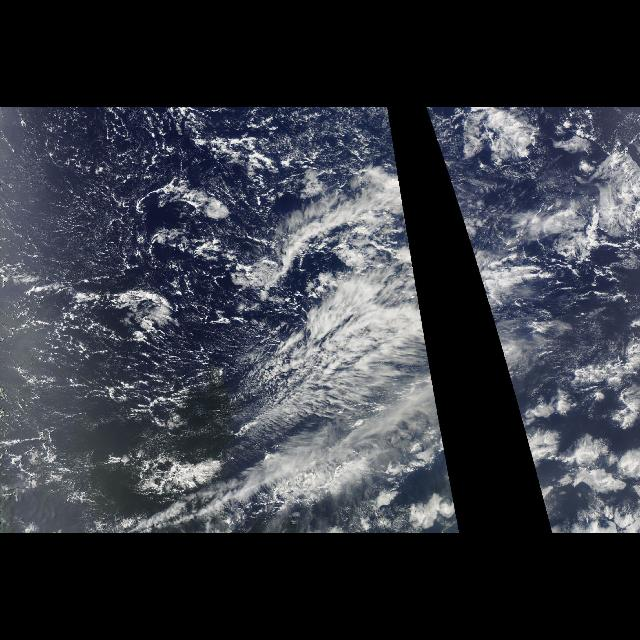Fish: (210, 197, 414, 526)
Gravel: (14, 134, 146, 400)
